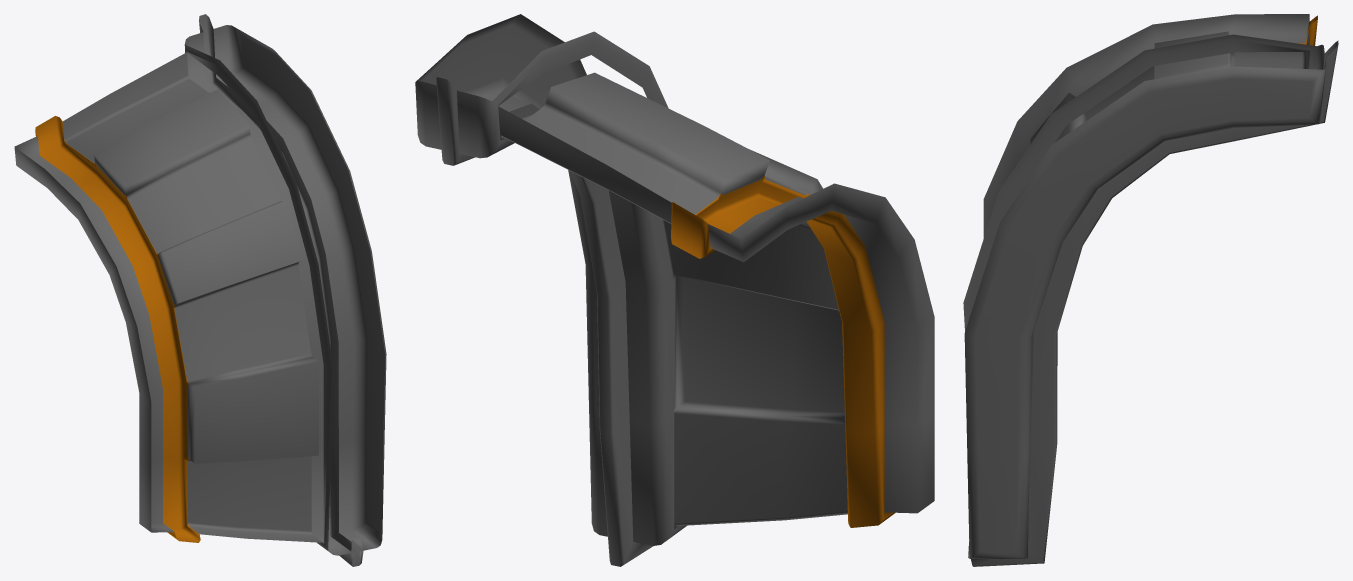
The model's file is Structure_01.fbx.
3 views of the same model, side by side, from view 1: azimuth 30°, elevation 25°; view 2: azimuth 150°, elevation 25°; view 3: azimuth 270°, elevation 25° (orthographic). The views are drawn at different scales.
Parts seen in each view (by area): view 1: Structure_01; view 2: Structure_01; view 3: Structure_01.
Part boxes in pixels (x1,y1,x2,y2): Structure_01: [14, 14, 386, 566]; Structure_01: [415, 14, 934, 566]; Structure_01: [963, 14, 1338, 566].
Bounding box in the file's own units: 4.08 × 7.4 × 4.81.
